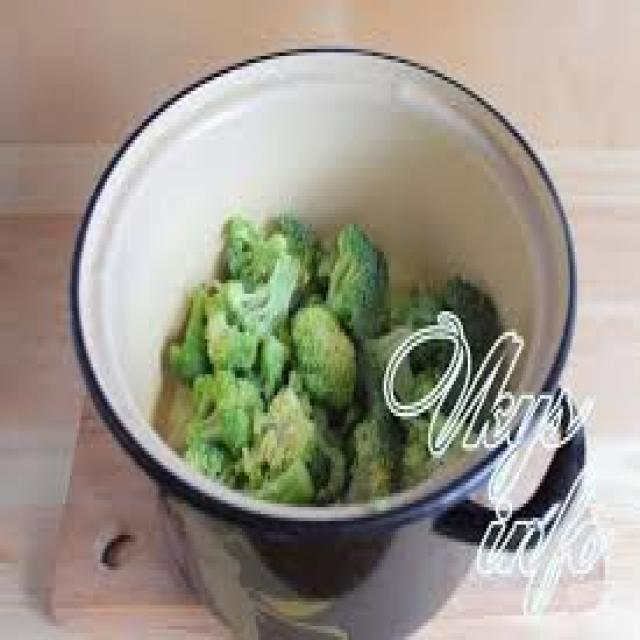broccoli: (155, 186, 423, 544)
